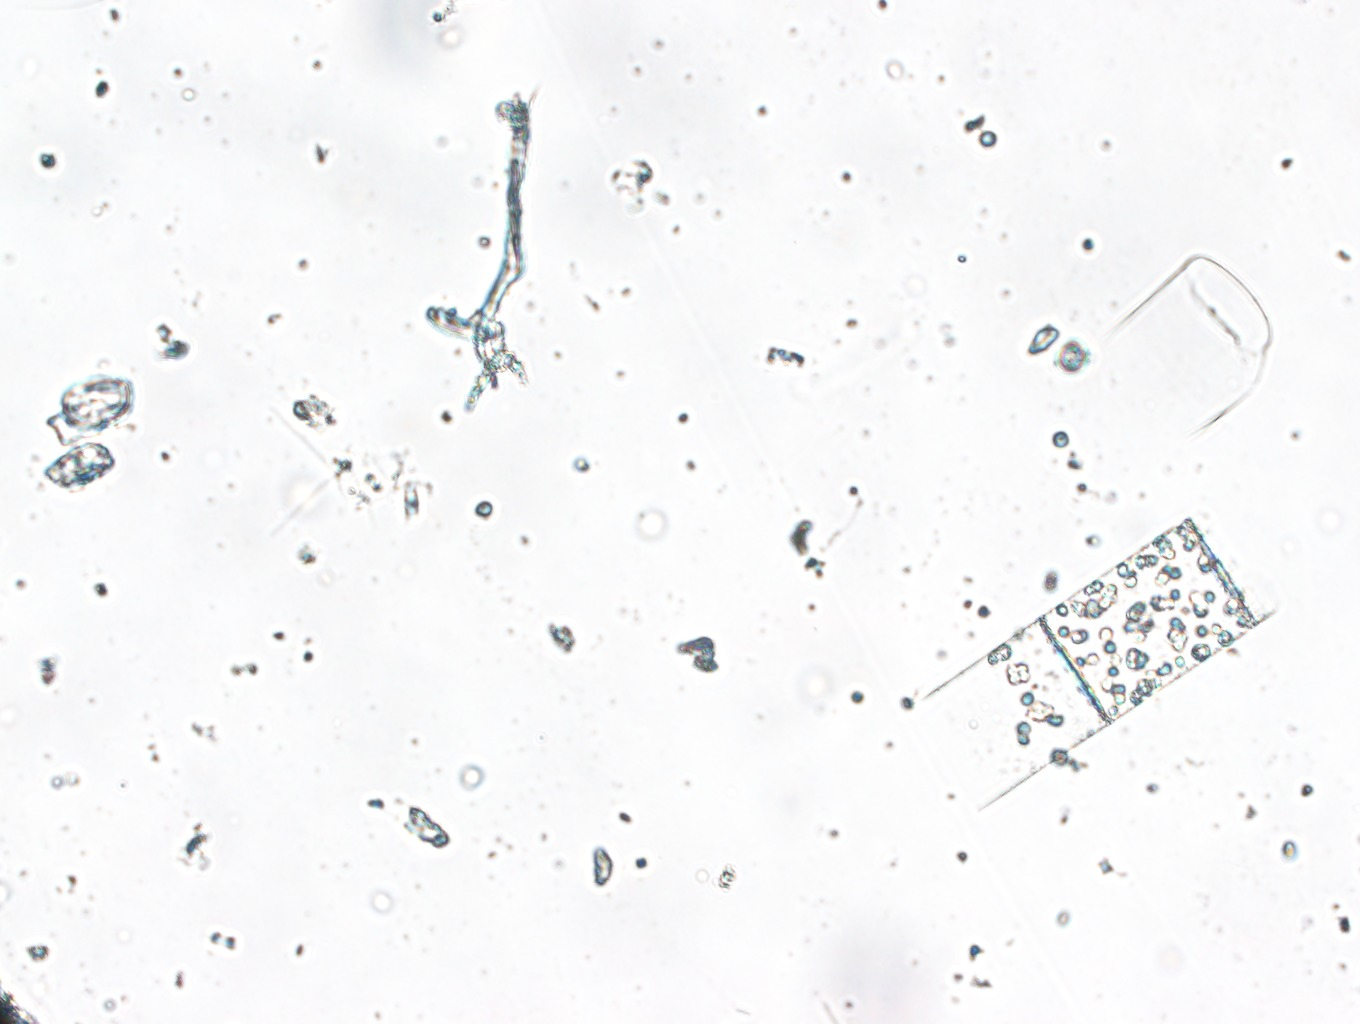guinardia flaccida: (924, 504, 1275, 808)
